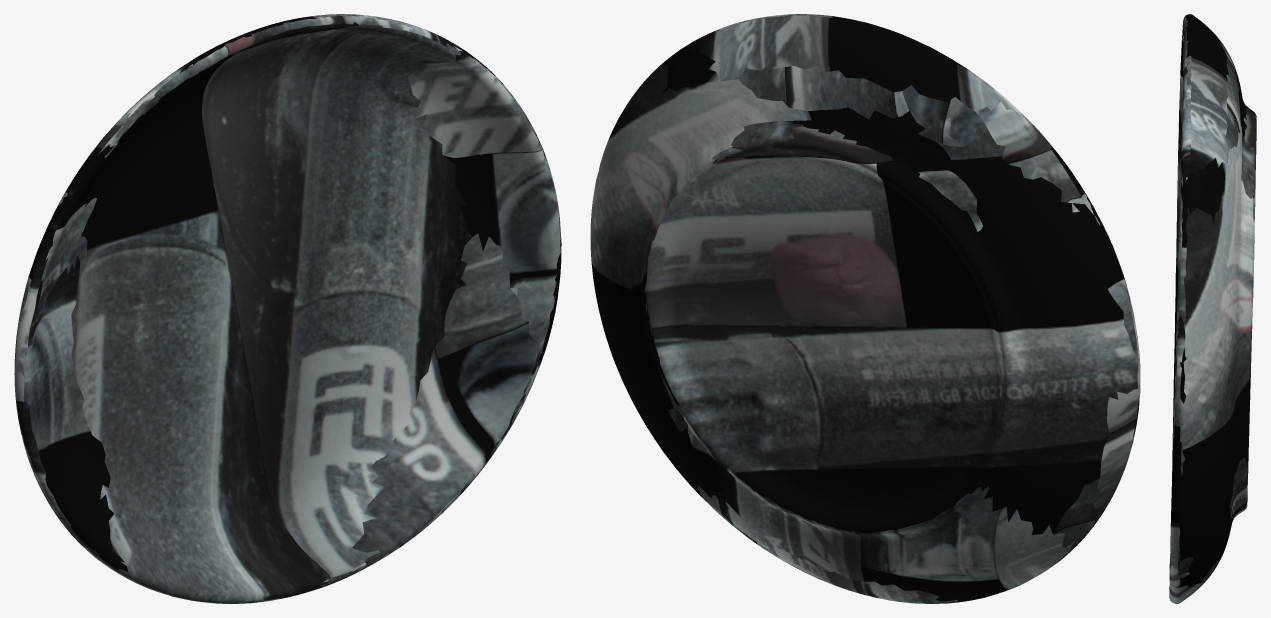
The picture shows the model from 3 angles, left to right: view 1: azimuth 30°, elevation 25°; view 2: azimuth 150°, elevation 25°; view 3: azimuth 270°, elevation 25°; orthographic projection. The views are drawn at different scales.
Size of the model in its own units: 0.1534 by 0.1537 by 0.0228.
